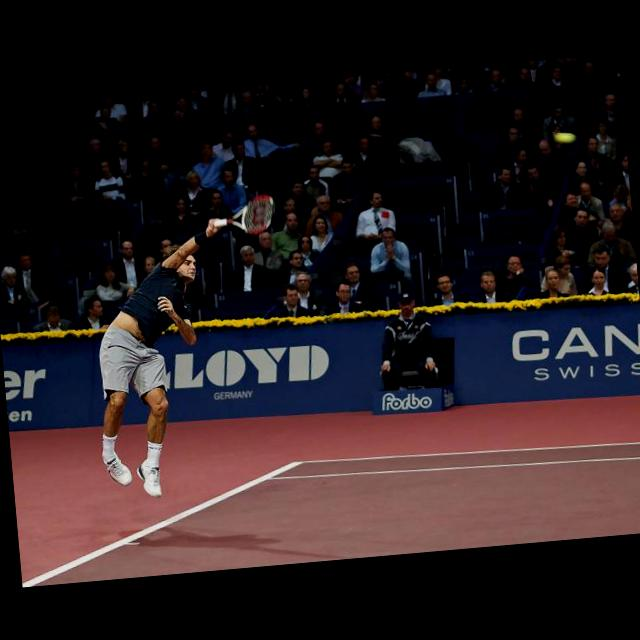Tennis Ball: (554, 128, 576, 145)
